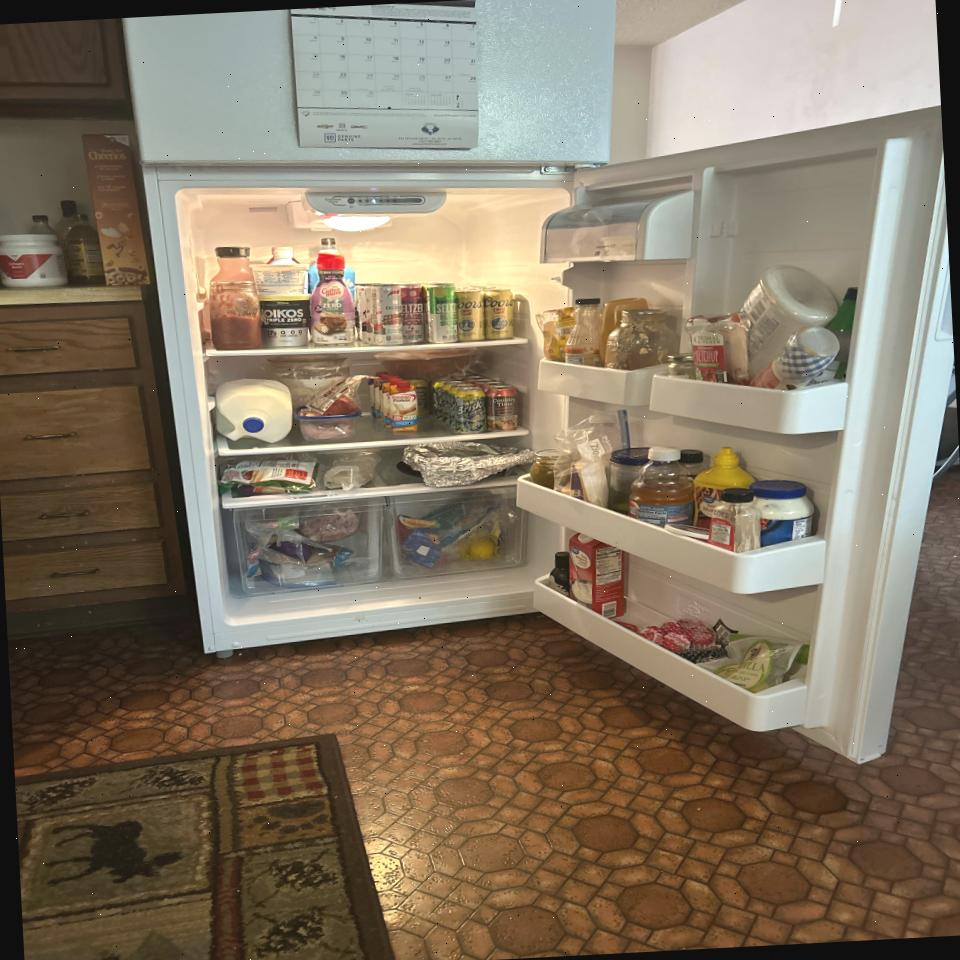Leche: (212, 376, 295, 446)
Limón: (469, 538, 495, 560)
Queso: (557, 462, 594, 504)
Yogur: (259, 293, 315, 348), (249, 261, 311, 296)
